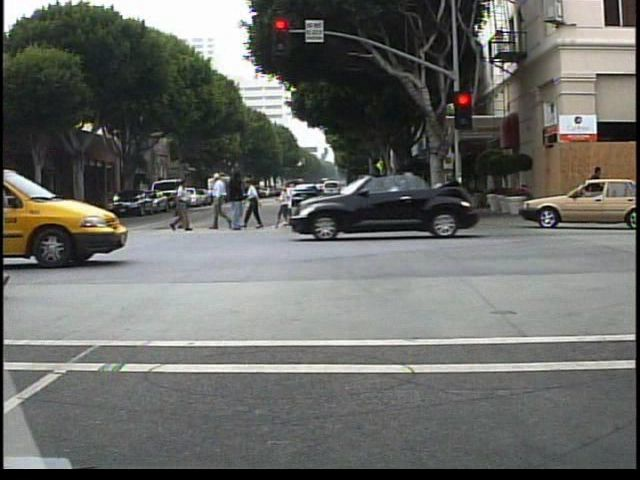person: (223, 170, 248, 234), (210, 171, 235, 231), (168, 175, 193, 233), (582, 161, 606, 221), (19, 192, 49, 240), (24, 182, 48, 237), (169, 181, 194, 233), (245, 177, 268, 231)
